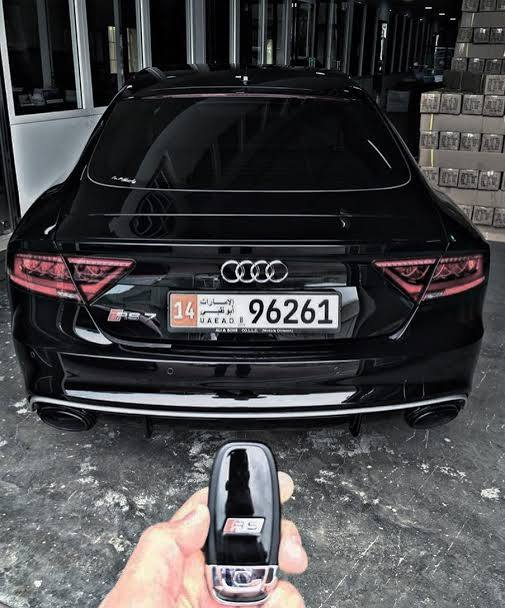audi: (13, 70, 498, 442)
